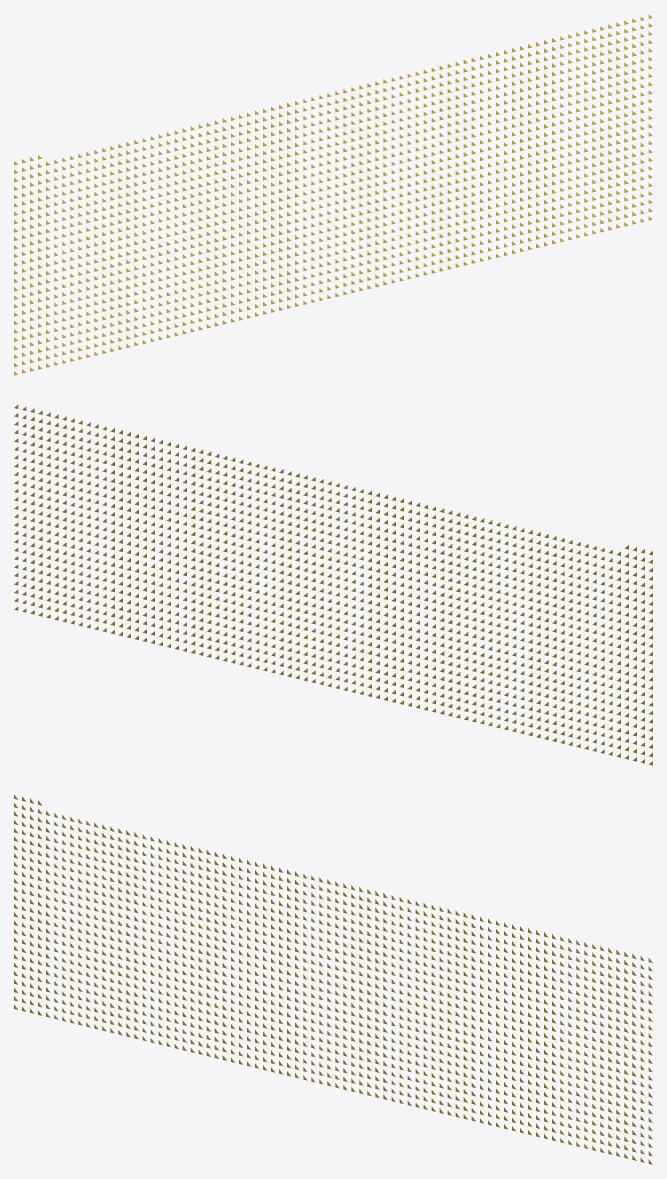
The picture shows the model from 3 angles, top to bottom: view 1: azimuth 30°, elevation 25°; view 2: azimuth 150°, elevation 25°; view 3: azimuth 330°, elevation 25°; orthographic projection.
Visible parts, largest first — view 1: scene-2_props; view 2: scene-2_props; view 3: scene-2_props.
Boxes of the visible parts, box(x1,y1,x2,y2) form: scene-2_props: box(14, 15, 652, 375); scene-2_props: box(14, 405, 652, 765); scene-2_props: box(14, 794, 652, 1164).
Size of the model in its own units: 1.43 by 0.46 by 0.
